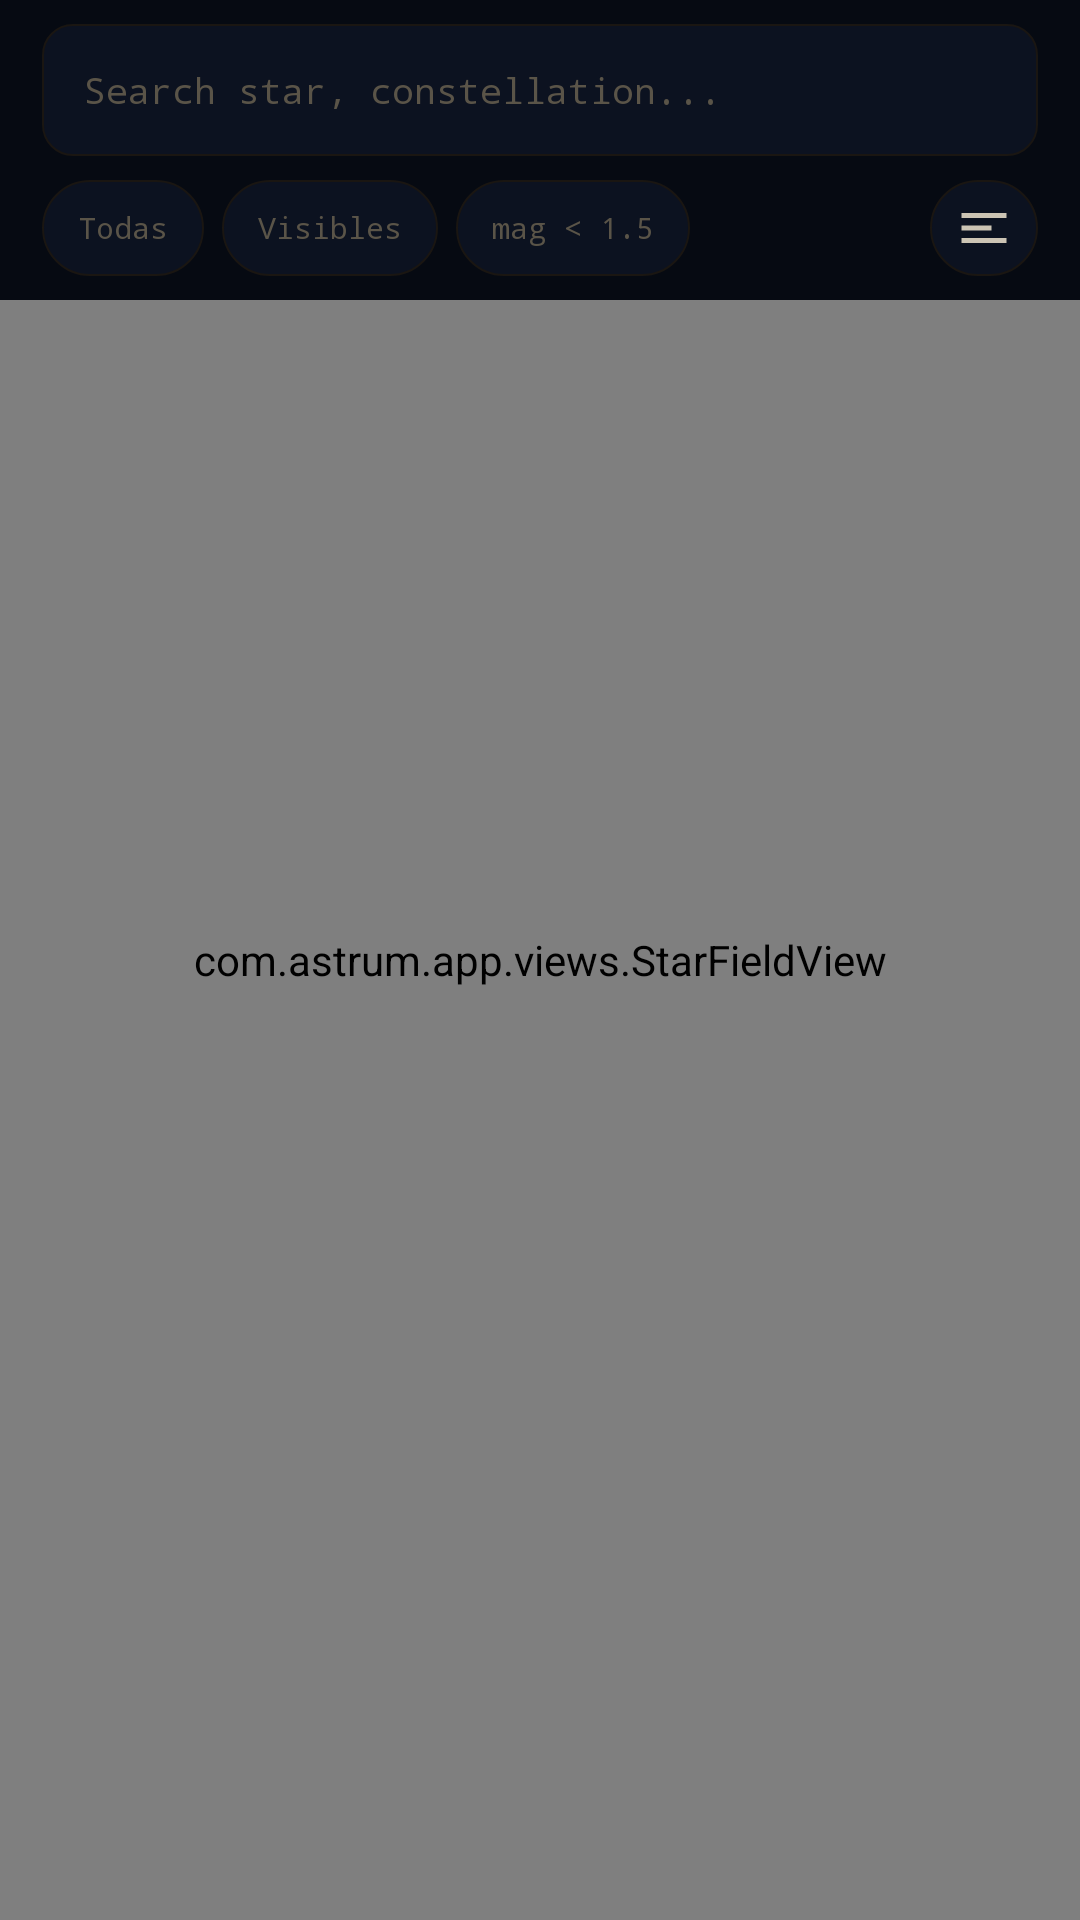

Where icons sit on this 1080×1920 app screen, as (x1, y1, x2, y2):
Sort by: (930, 180, 1038, 276)
